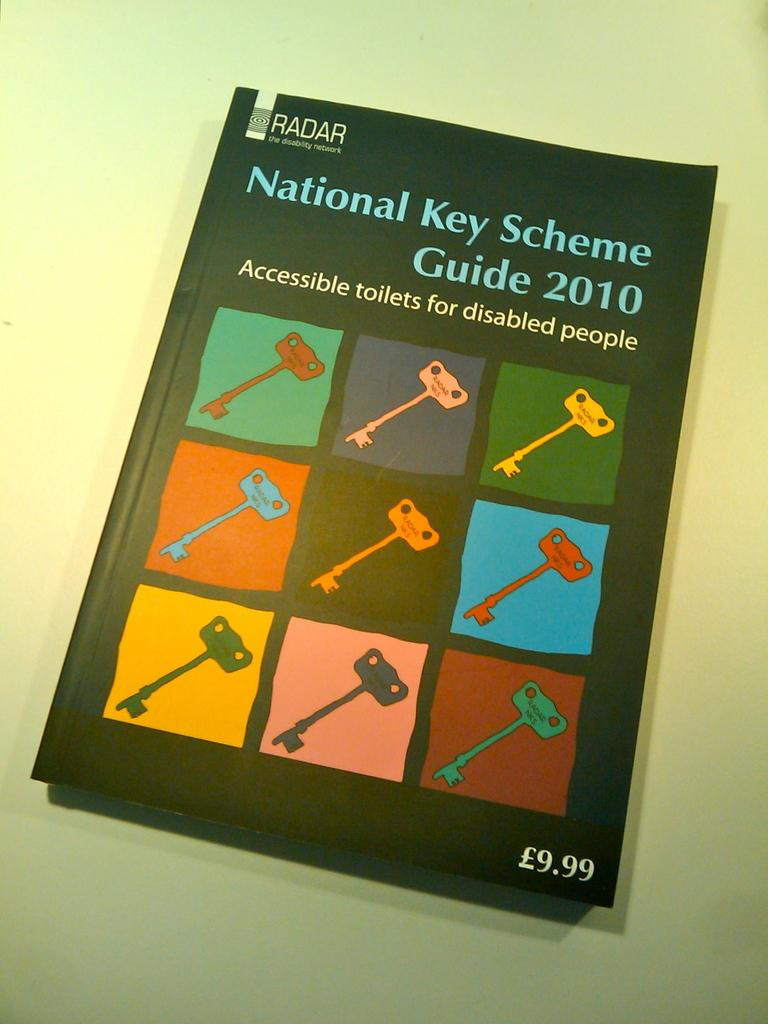book: (31, 88, 719, 913)
